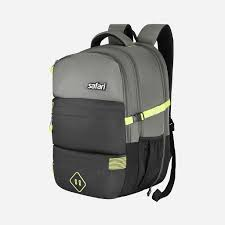backpack: (49, 22, 176, 201)
